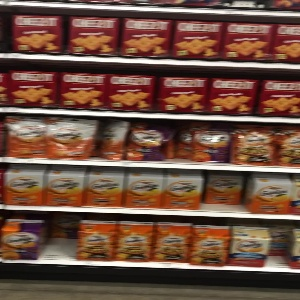void: (196, 172, 253, 212), (38, 215, 79, 260)
